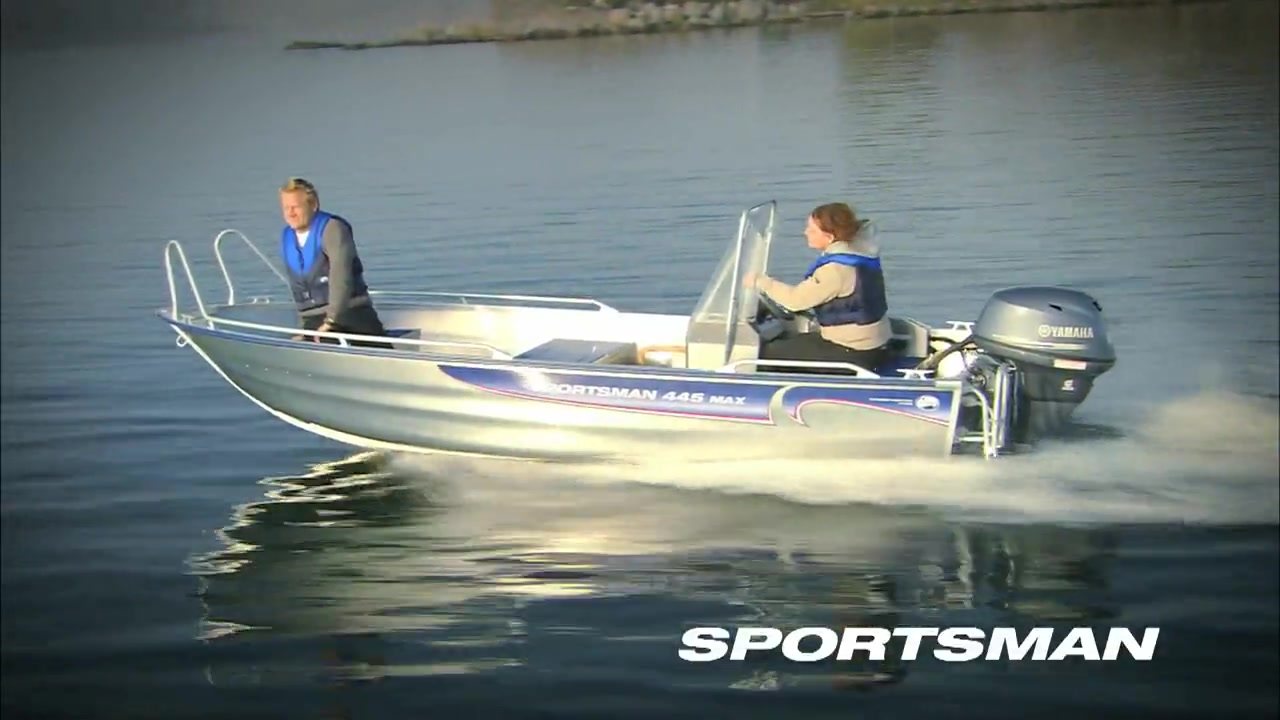boat: (158, 195, 1121, 467)
